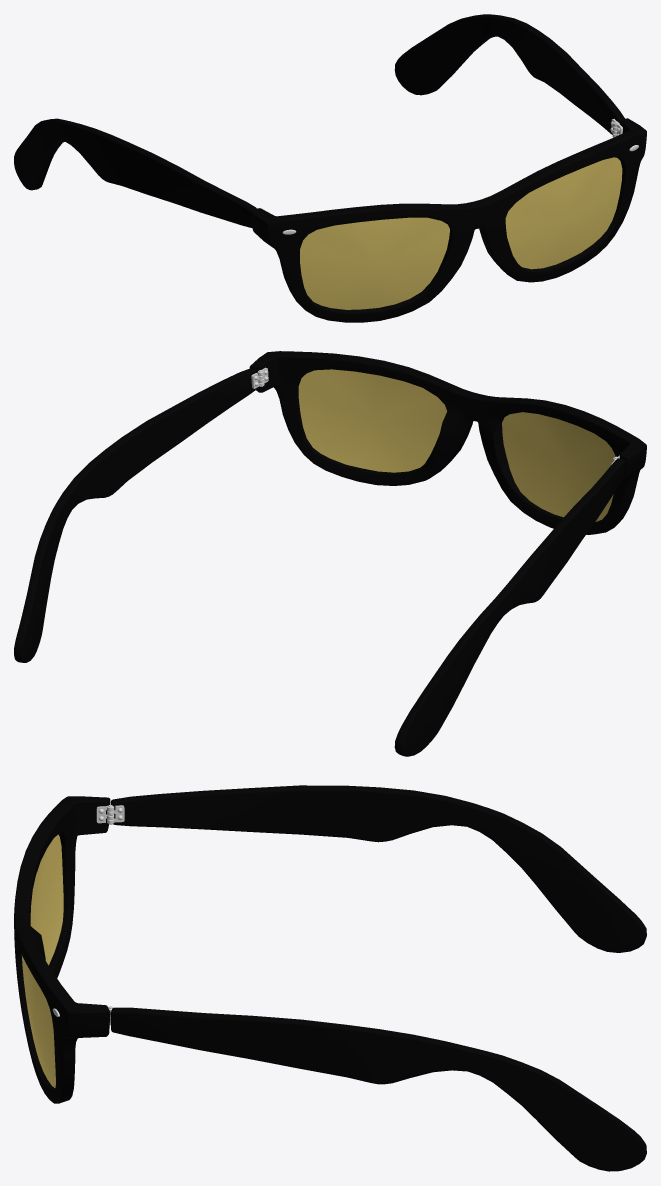
File: Glasses_low-poly_model_download.glb
The picture shows the model from 3 angles, top to bottom: view 1: azimuth 30°, elevation 25°; view 2: azimuth 150°, elevation 25°; view 3: azimuth 270°, elevation 25°; orthographic projection. The views are drawn at different scales.
Parts seen in each view (by area): view 1: Glasses_Glasses_frame_0, Glass_Glasses_glass_0; view 2: Glasses_Glasses_frame_0, Glass_Glasses_glass_0; view 3: Glasses_Glasses_frame_0, Glass_Glasses_glass_0, Glasses_Glasses_metal_0.
Part boxes in pixels (x1,y1,x2,y2): Glasses_Glasses_frame_0: [14, 14, 646, 322]; Glass_Glasses_glass_0: [300, 157, 622, 309]; Glasses_Glasses_frame_0: [14, 351, 646, 756]; Glass_Glasses_glass_0: [298, 369, 615, 521]; Glasses_Glasses_frame_0: [14, 785, 646, 1171]; Glass_Glasses_glass_0: [21, 834, 63, 1087]; Glasses_Glasses_metal_0: [52, 805, 124, 1025].
Size of the model in its own units: 15.43 by 4.66 by 16.51.
